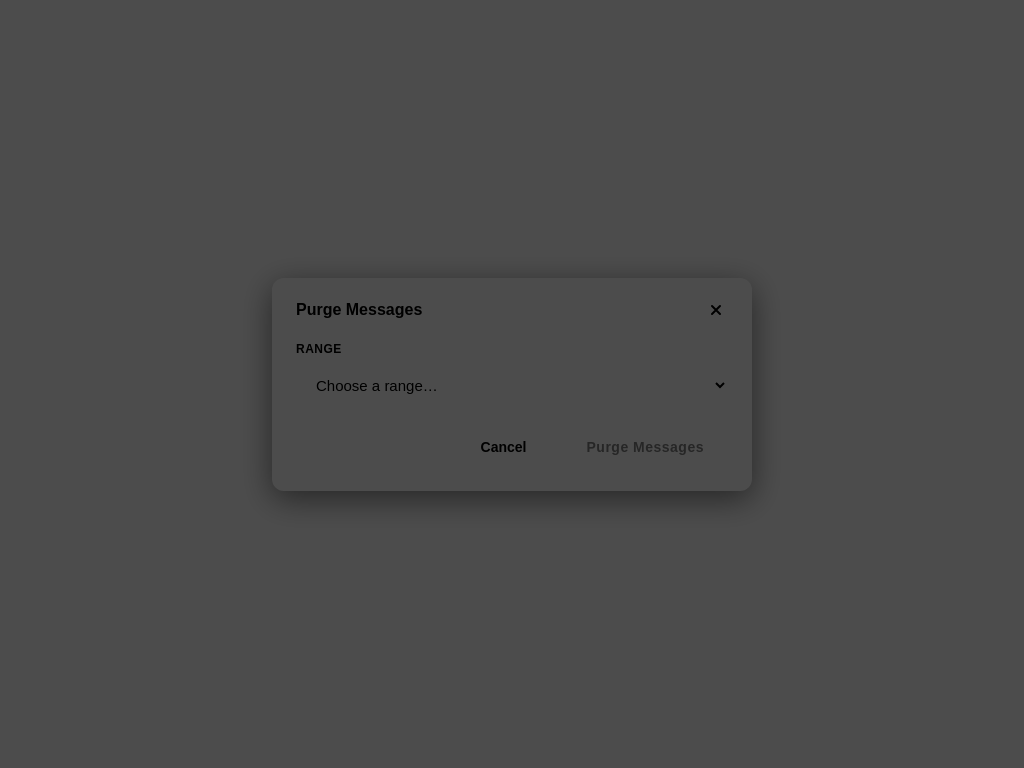
Scenario: PurgeMessagesModal — result stage › treats an empty scope as a success, not an error
Select "Last 7 days" in the dropdown labelled "Range" at (512, 385), box [296,364,728,406]
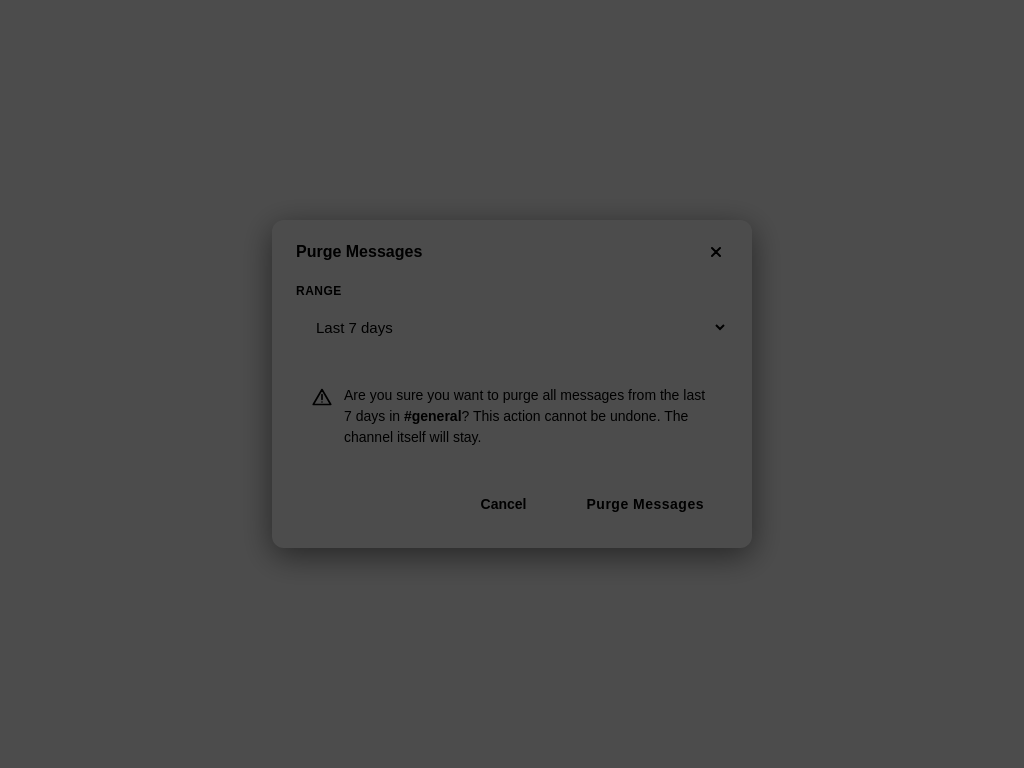
Click the button "Purge Messages" at (645, 504), box [562,484,728,524]
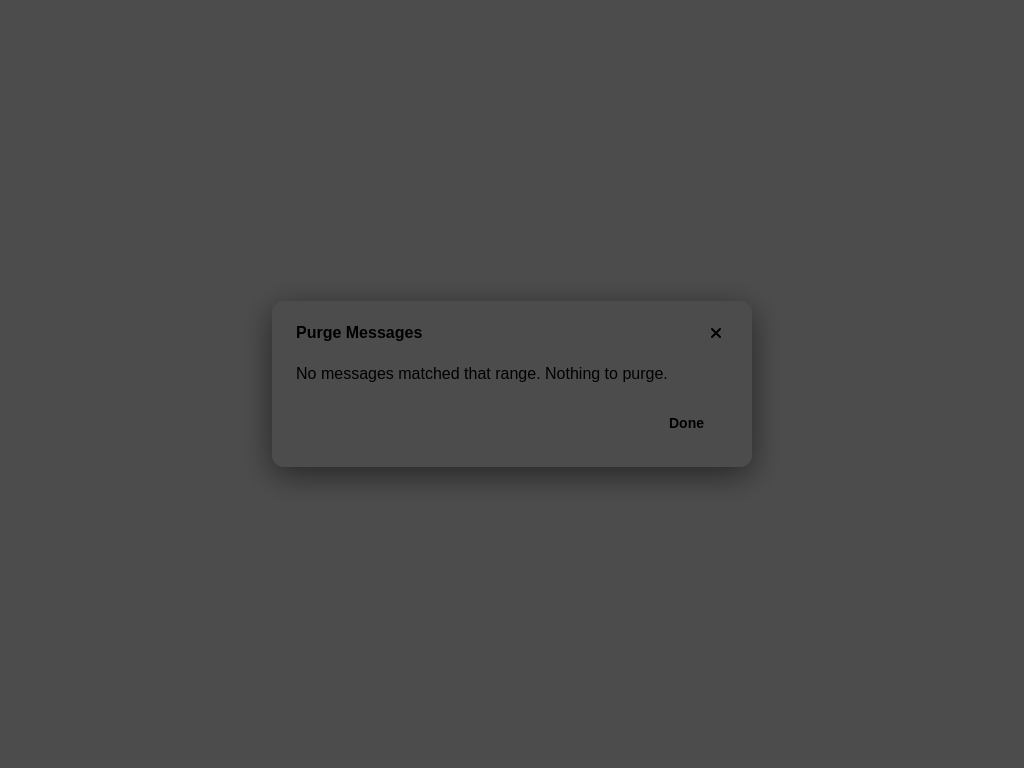
Expected: the text "No messages matched that range. Nothing to purge." is shown, [296,365,728,383]
